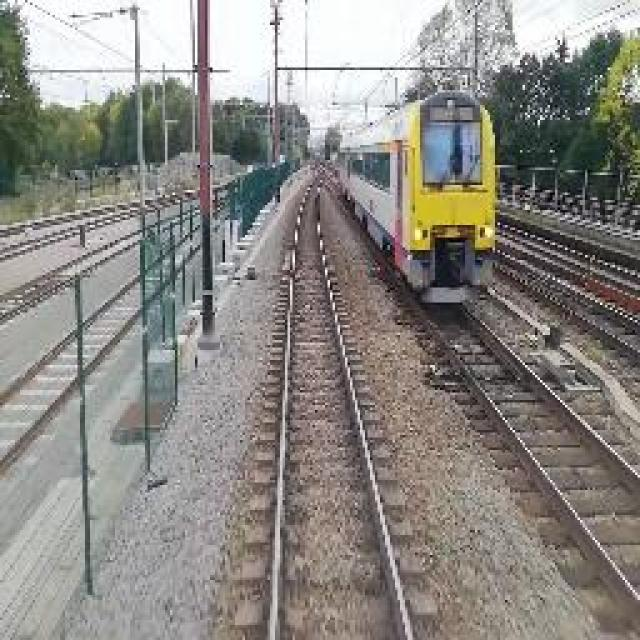rail: (326, 158, 640, 640), (225, 165, 449, 639)
